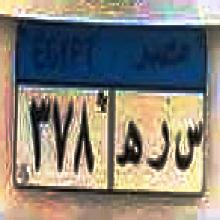3: (28, 93, 52, 174)
7: (52, 97, 72, 176)
8: (72, 94, 96, 180)
haa: (120, 120, 140, 165)
raa: (148, 117, 172, 178)
seen: (177, 120, 202, 172)
